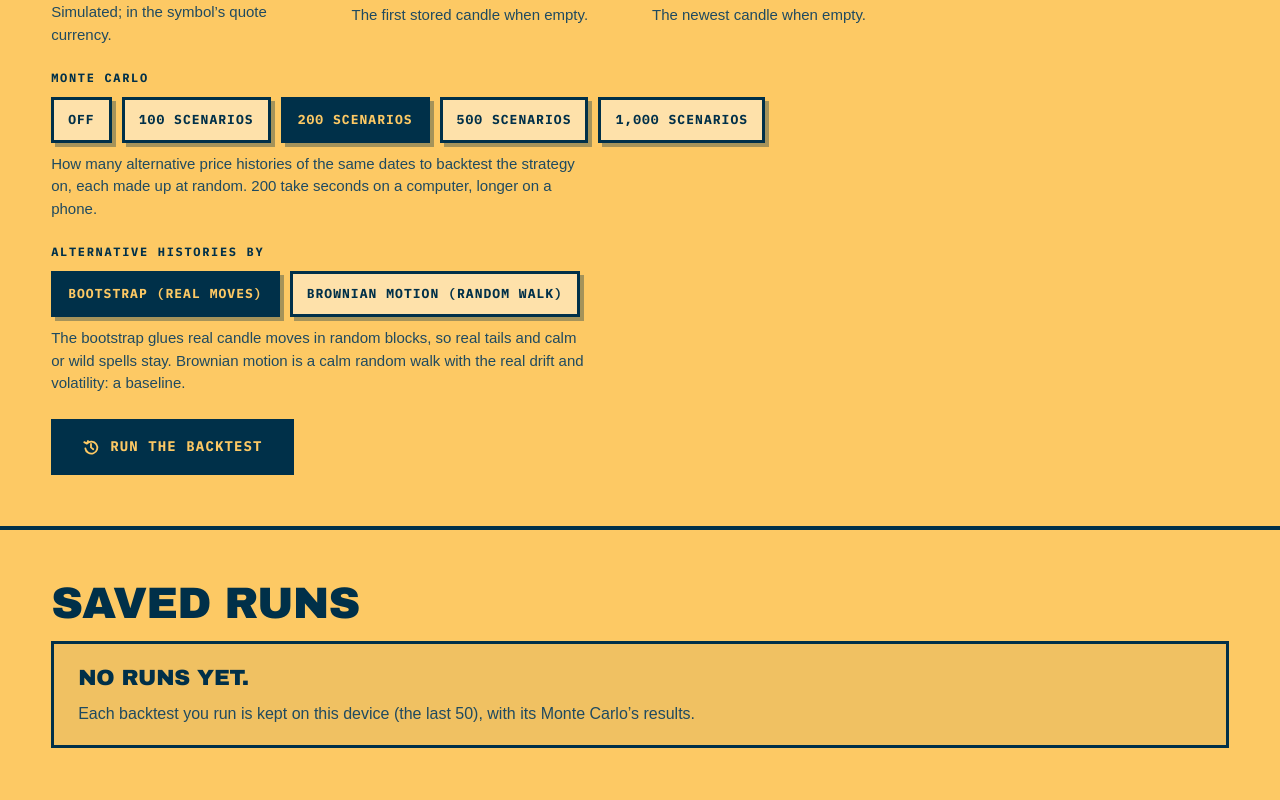
Test: Backtest › shows the engine’s message for a request it refuses
The image size is (1280, 800).
(page scrolled)
Click the button "Run the backtest" at (172, 447), box [51,419,294,475]
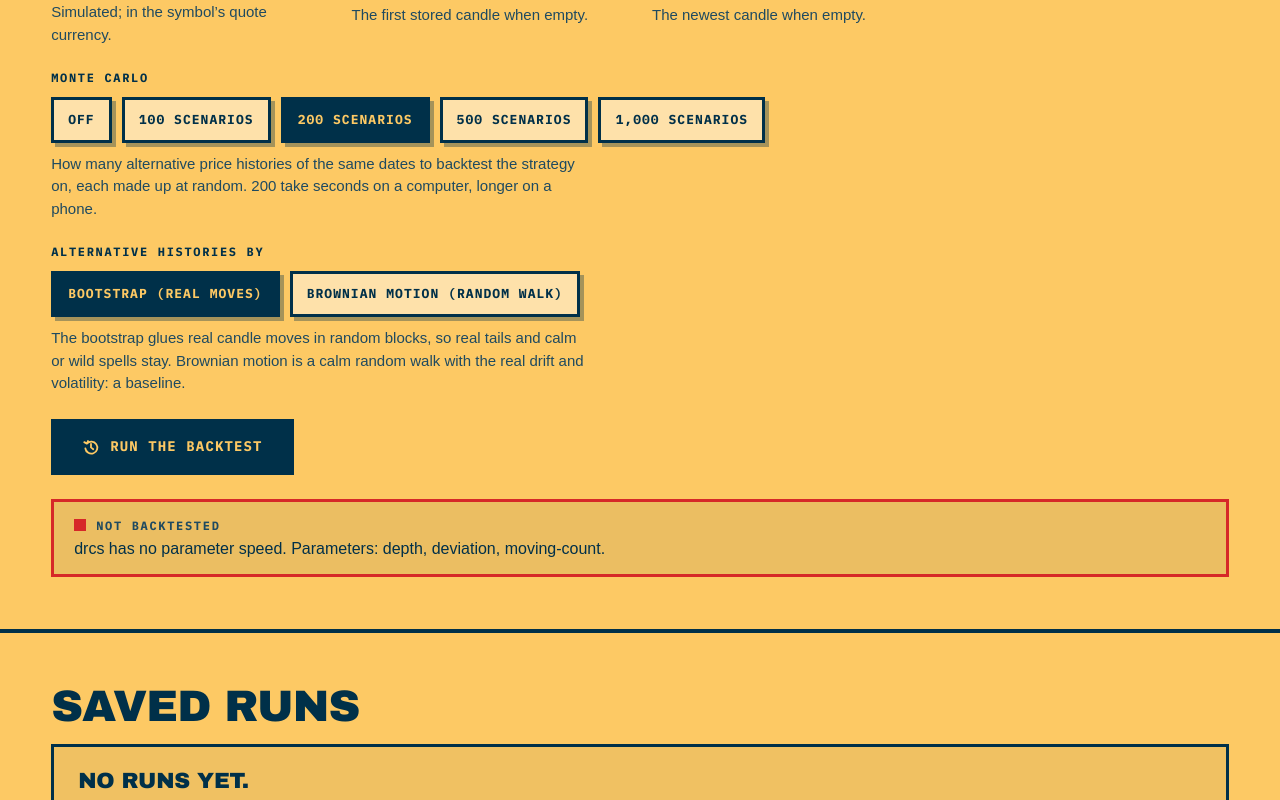
Expected: the text "drcs has no parameter speed" is shown, [74,540,605,558]
